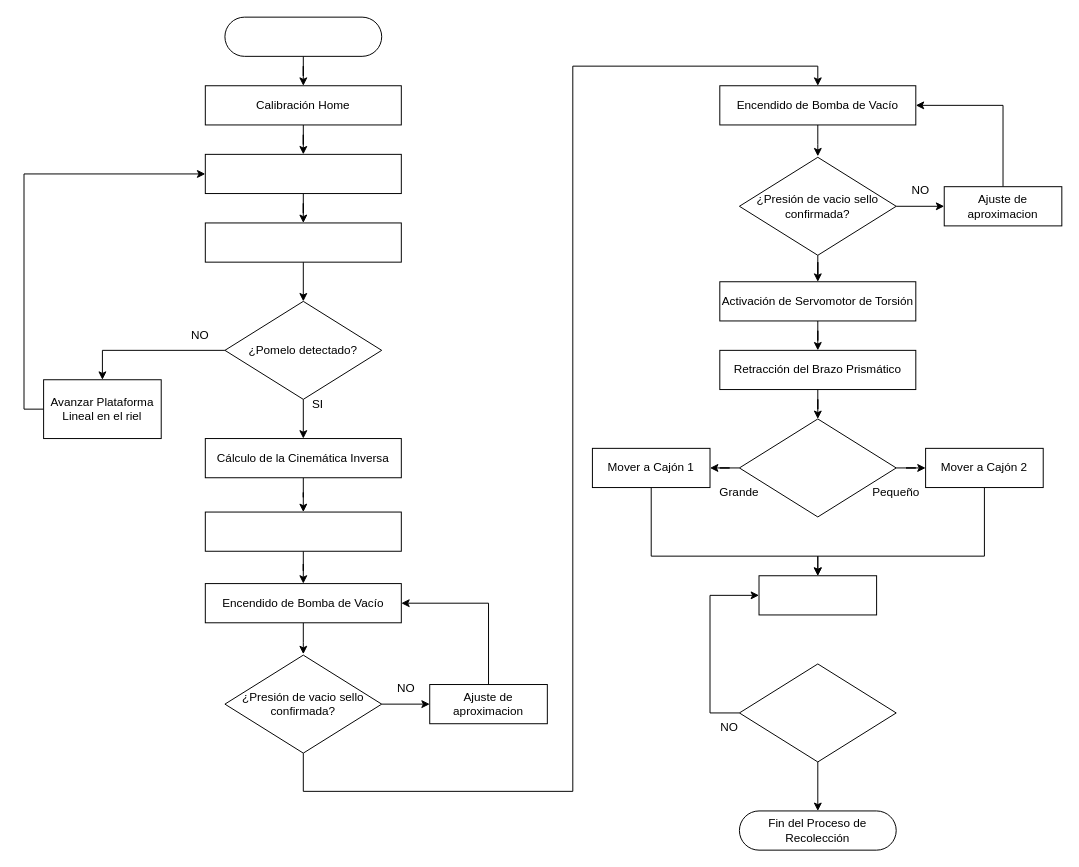
Image size: 1079x867. Some labels were removed from this diagram. The box of each missing label's shape, as (x1, y1, x2, y2) in pixels:
Desactivar Succión: (758, 575, 877, 615)
Desplazamiento y Aproximación RRP: (204, 511, 401, 551)
Escaneo y Percepcíon 3D: (204, 153, 401, 194)
INICIO: (224, 16, 382, 56)
Procesamiento OpenCV: (204, 222, 401, 262)
¿Fin del Recorrido?: (738, 663, 896, 762)
¿Tamaño del Pomelo?: (738, 418, 896, 517)
